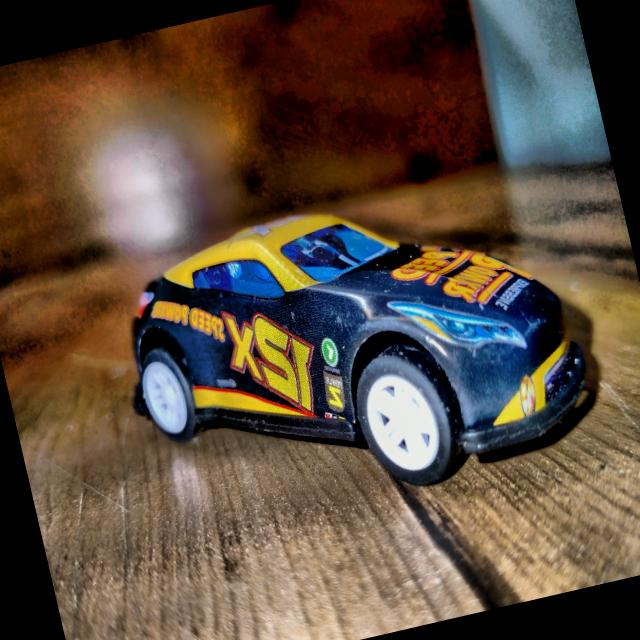Car: (102, 160, 604, 544)
